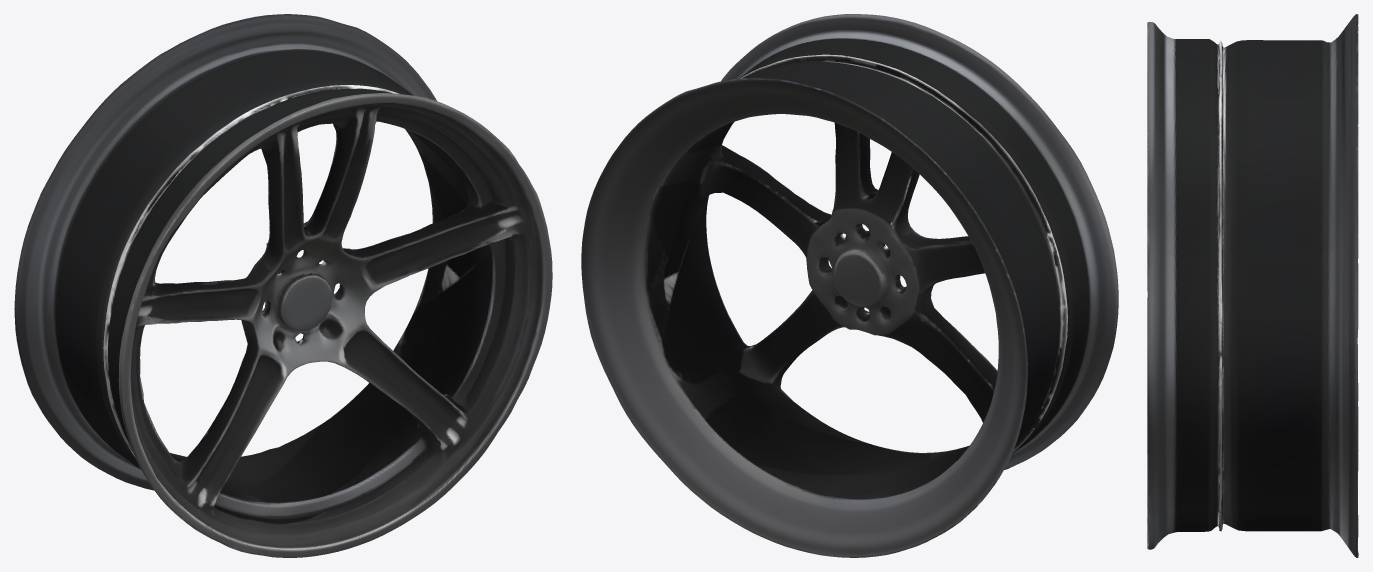
The model's file is base_basic_shaded.glb.
3 renders of one model, left to right at view 1: azimuth 30°, elevation 25°; view 2: azimuth 150°, elevation 25°; view 3: azimuth 270°, elevation 25°, orthographic. The views are drawn at different scales.
Visible parts, largest first — view 1: model; view 2: model; view 3: model.
Part boxes in pixels (x1,y1,x2,y2): model: (14,14,552,557); model: (581,14,1118,557); model: (1147,14,1358,557).
Bounding box in the file's own units: 1.9 × 1.9 × 0.7342.
Materials: 1 (1 with a texture image).
